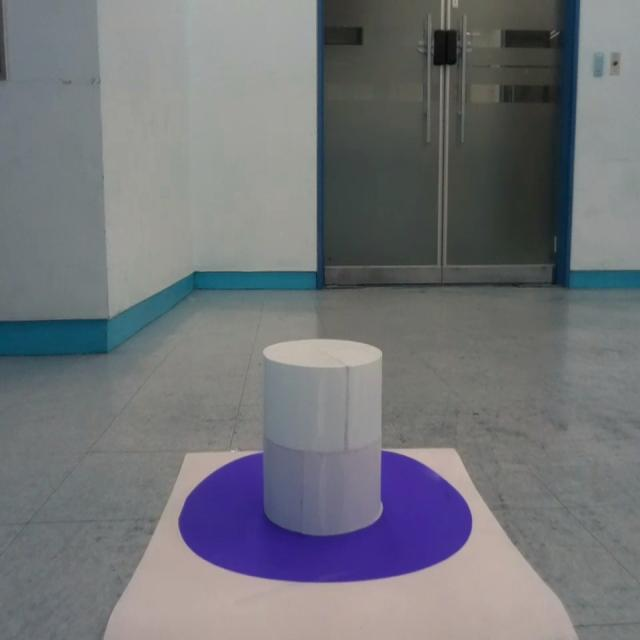cylinder: (262, 338, 384, 536)
